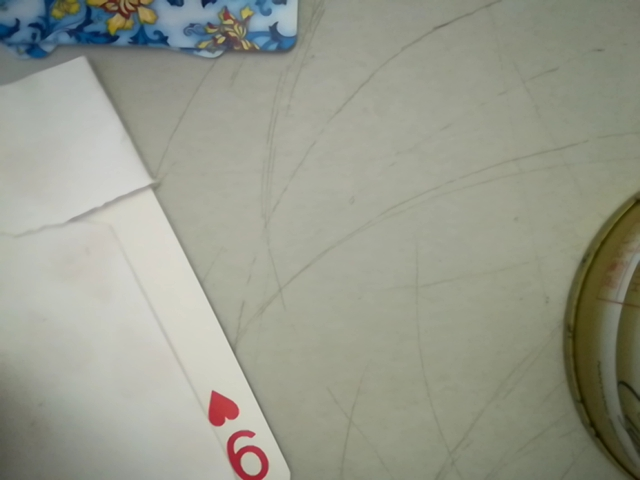hx 9: (201, 381, 277, 479)
